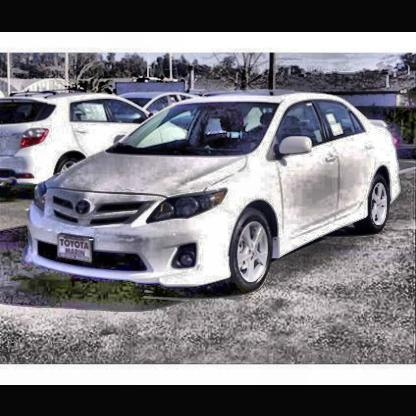Toyota Corolla Sedan 2012: (29, 92, 402, 293)
